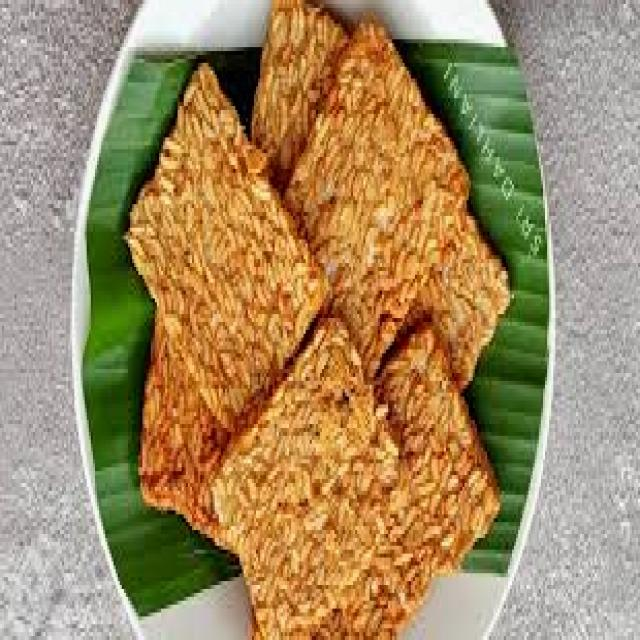tempe goreng: (136, 63, 326, 420), (285, 20, 473, 365), (211, 306, 398, 640)
